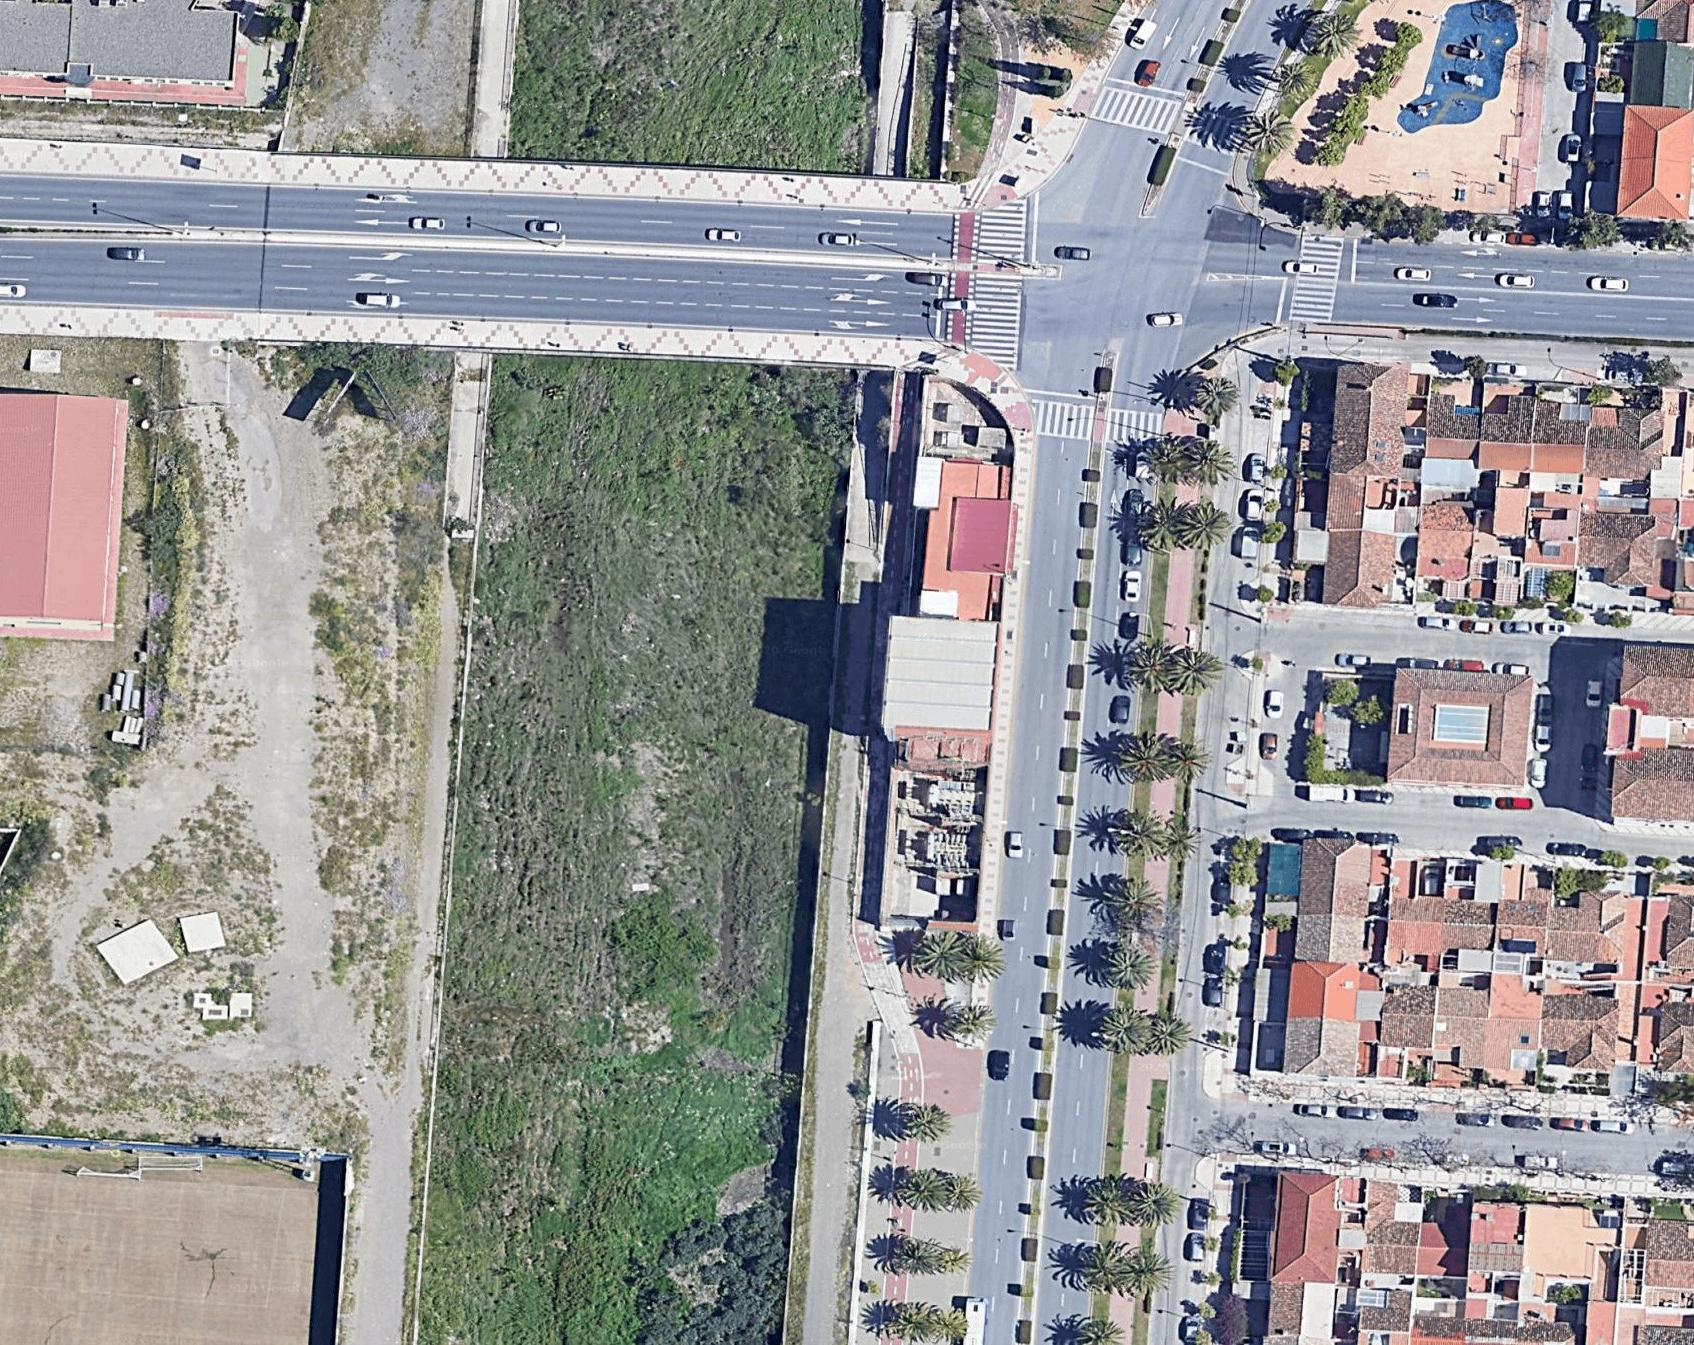substation: (892, 767, 986, 894)
